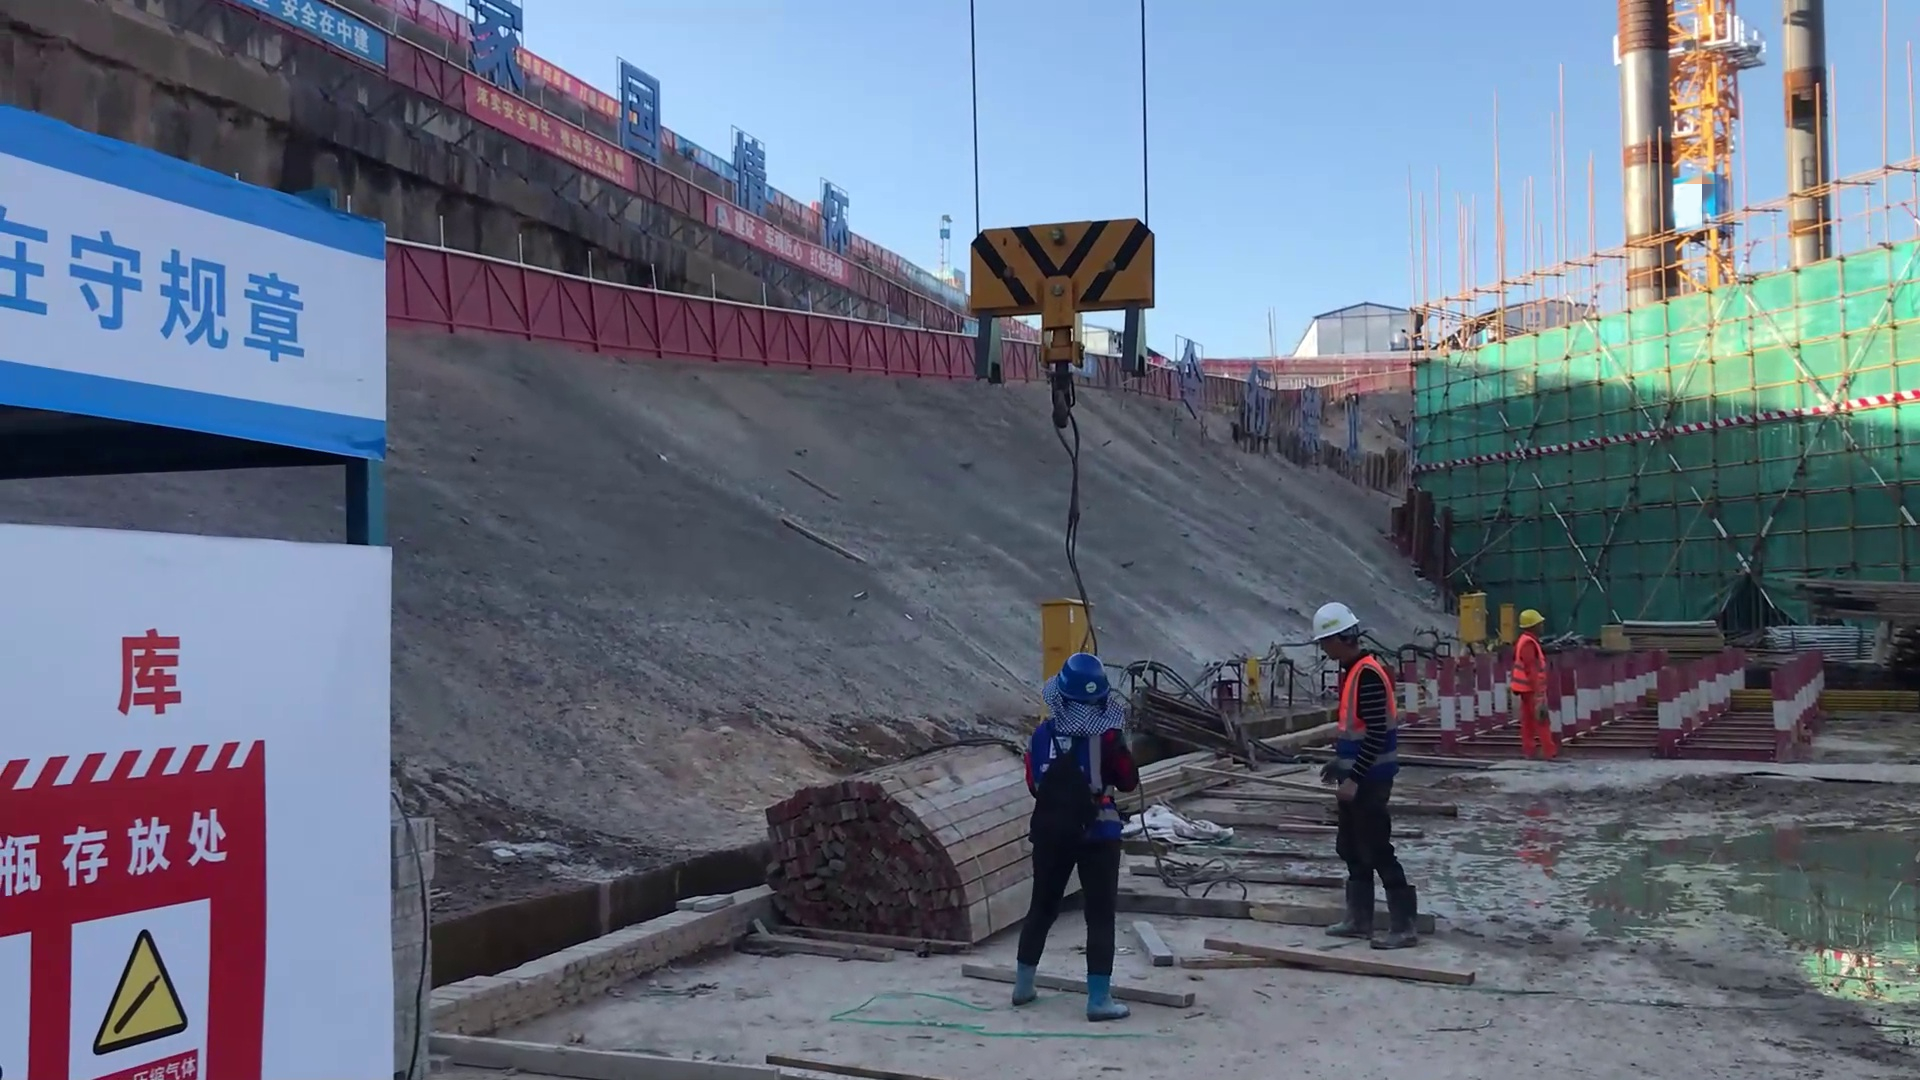ebox: (1040, 602, 1093, 672), (1456, 596, 1490, 650)
fence: (378, 257, 921, 387)
helmet: (1047, 649, 1133, 733), (1306, 598, 1360, 660), (1506, 594, 1558, 655)
hook: (966, 206, 1159, 387)
person: (1006, 654, 1132, 1018), (1302, 598, 1413, 954), (1507, 606, 1563, 761)
slogan: (1, 181, 359, 426), (38, 794, 249, 1080), (432, 70, 647, 192)
vest: (1332, 657, 1393, 732), (1513, 640, 1553, 695)
wood: (749, 731, 1000, 959), (1791, 579, 1920, 645)
